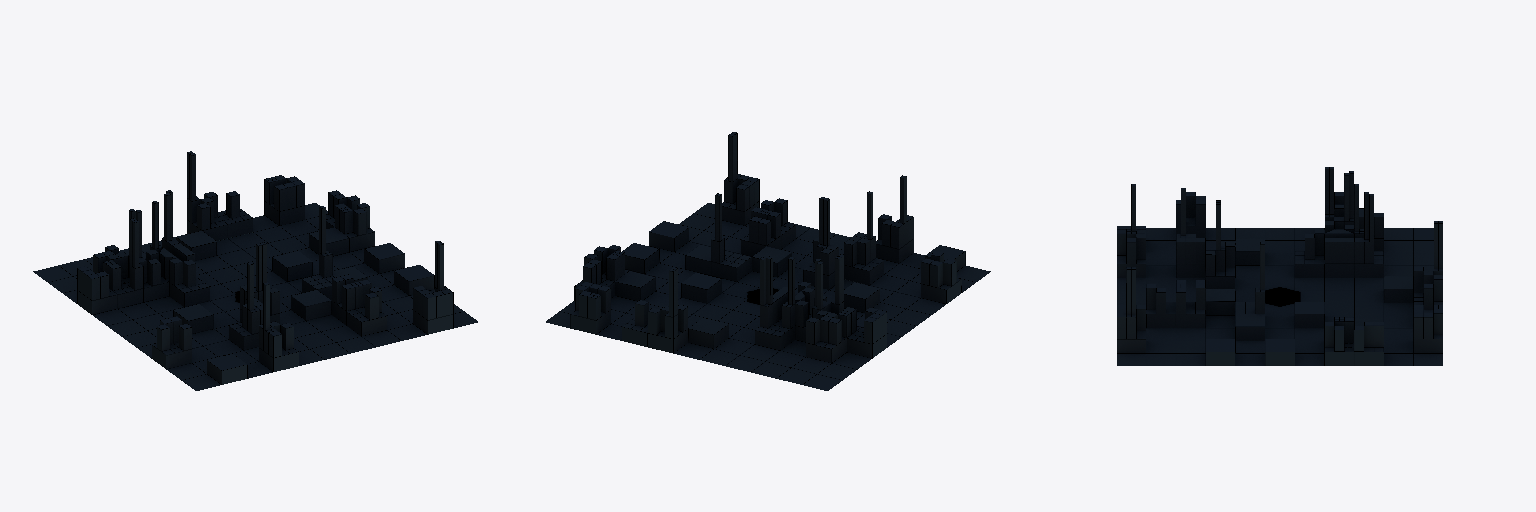
The picture shows the model from 3 angles: view 1: azimuth 30°, elevation 25°; view 2: azimuth 150°, elevation 25°; view 3: azimuth 270°, elevation 25°; orthographic projection.
Parts seen in each view (by area): view 1: textured-plane_Plane.001_textured; view 2: textured-plane_Plane.001_textured; view 3: textured-plane_Plane.001_textured.
Boxes of the visible parts, x1,y1,x2,y2 form: textured-plane_Plane.001_textured: [33, 151, 477, 390]; textured-plane_Plane.001_textured: [546, 132, 990, 390]; textured-plane_Plane.001_textured: [1117, 167, 1442, 365].
Size of the model in its own units: 23.48 by 6.49 by 23.48.
Materials: 1 (1 with a texture image).